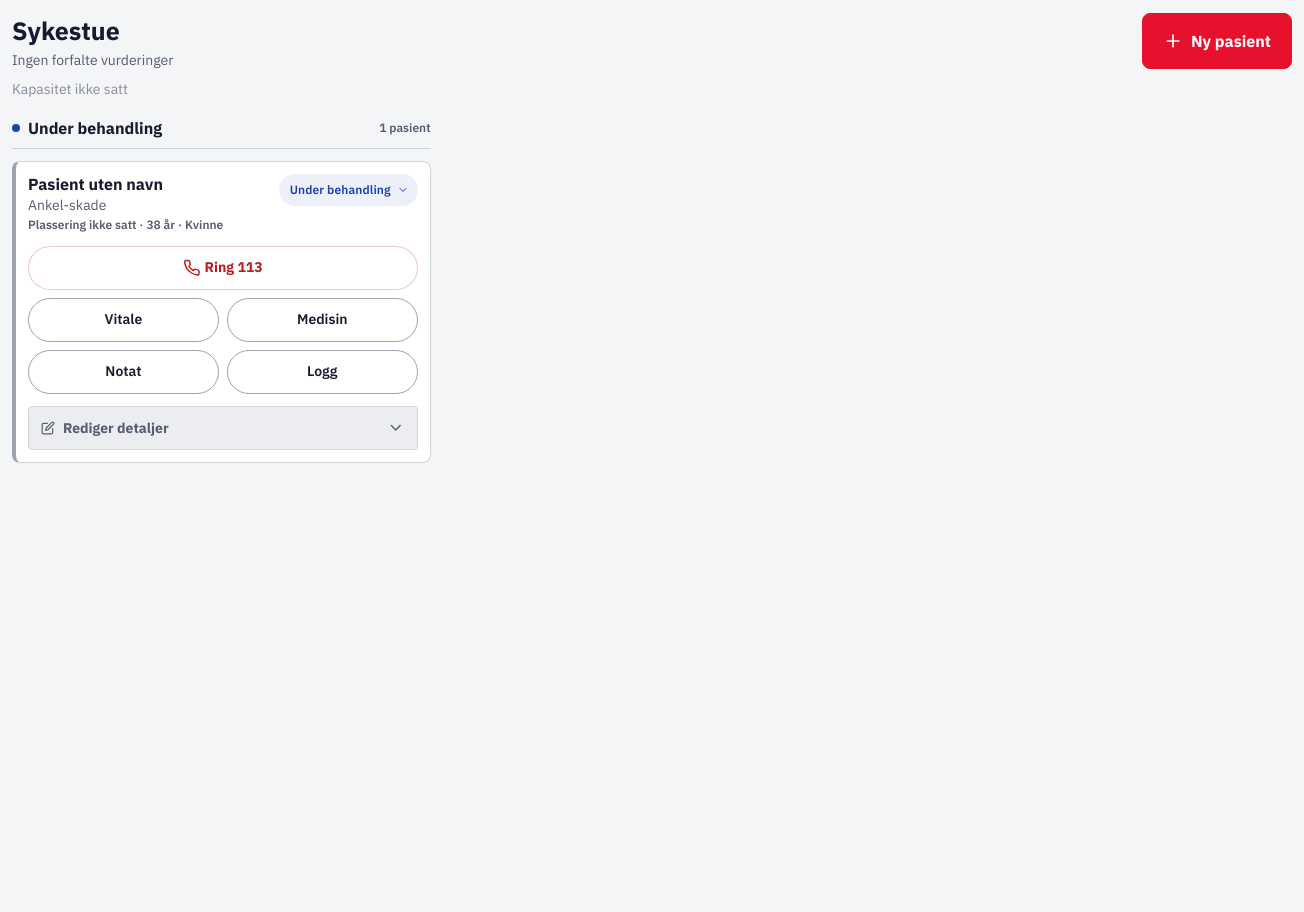
Test: AMK brief modal — structured 113 flow › renders dedicated AMK and AI timeline rows from action history artifacts
The width and height of the screenshot is (1304, 912).
expect the element with test id "patient-section-in_treatment" is shown: met, box [12,116,431,463]
Click the button "Logg": [322, 372] box [227,350,418,394]
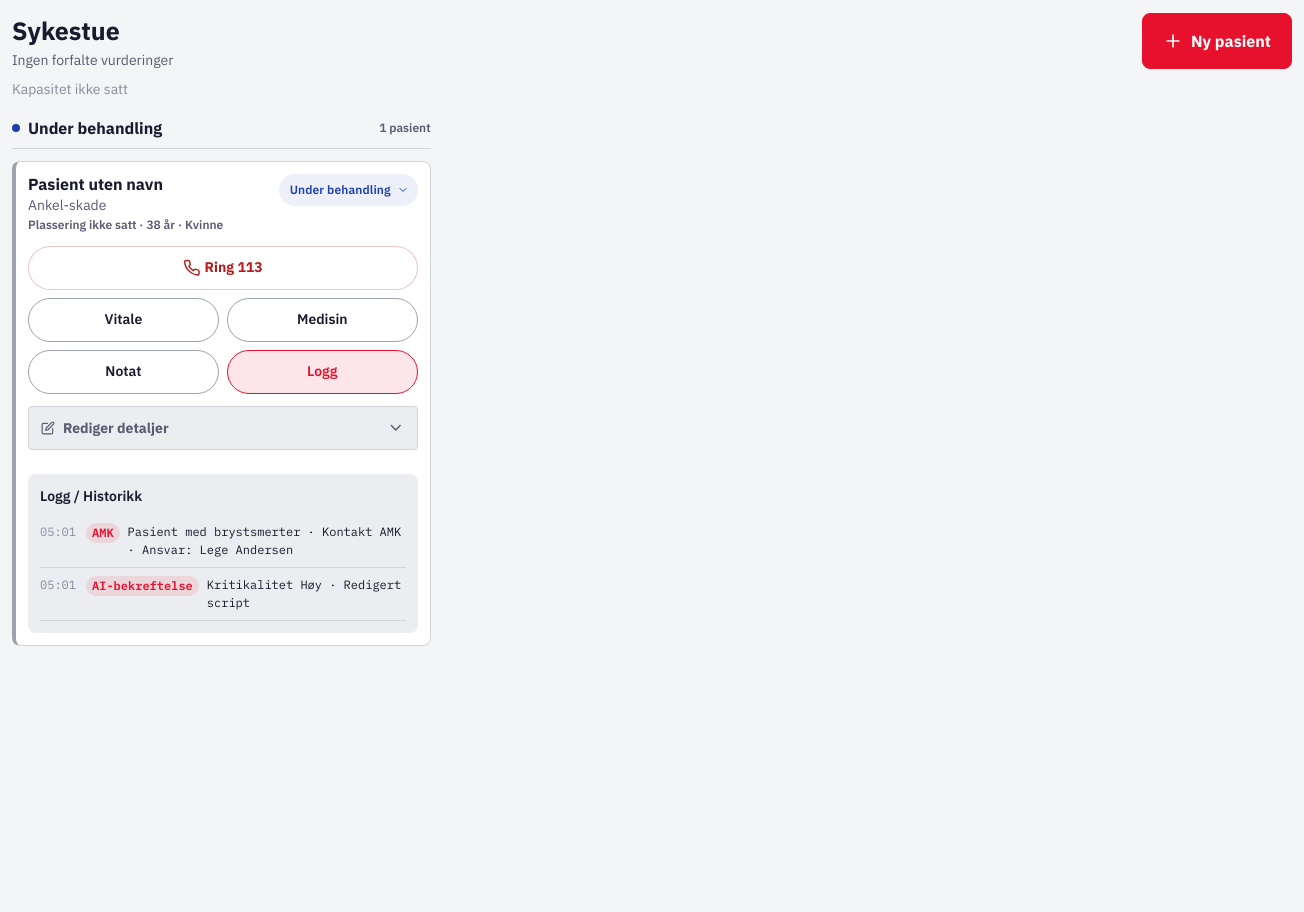
expect the text "AI-bekreftelse" is shown: met, box [86,576,199,596]
expect the text "AMK" is shown: met, box [86,523,120,543]
